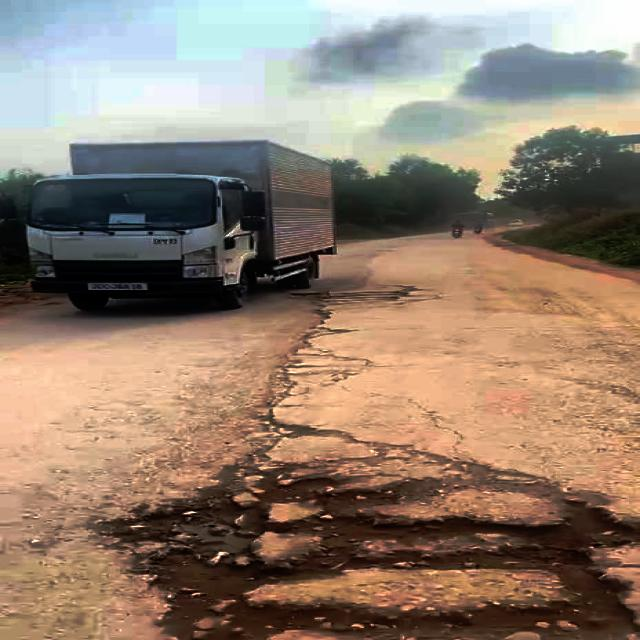pothole: (111, 458, 640, 640)
